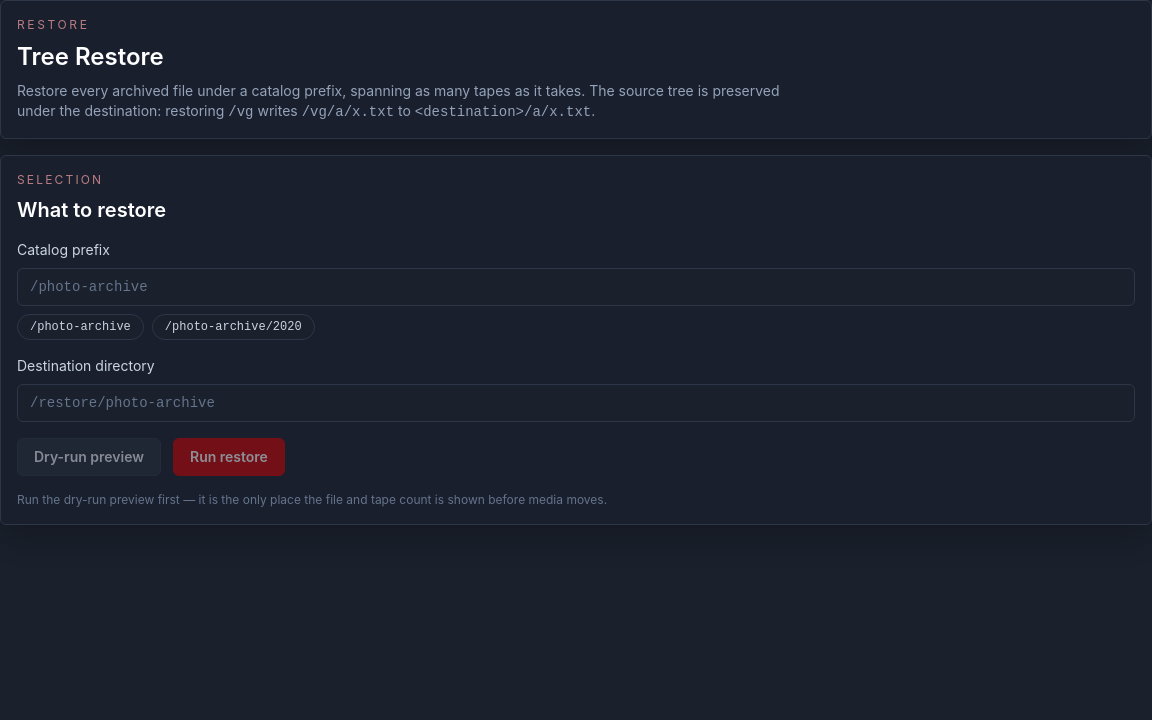
TreeRestore › offers catalog prefixes from the catalog listing
Click the button "/photo-archive/2020".
click(233, 327)  # box [152,314,315,340]
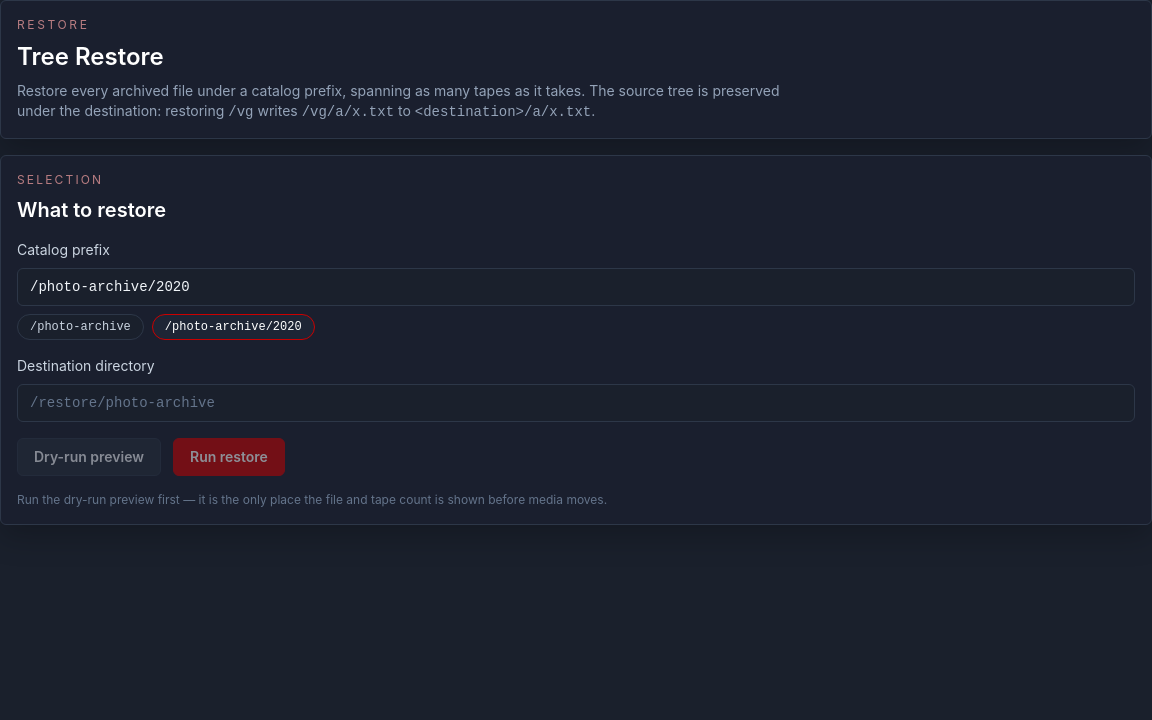
Result: the field labelled "Catalog prefix" holds "/photo-archive/2020" at [17,268,1135,306]
